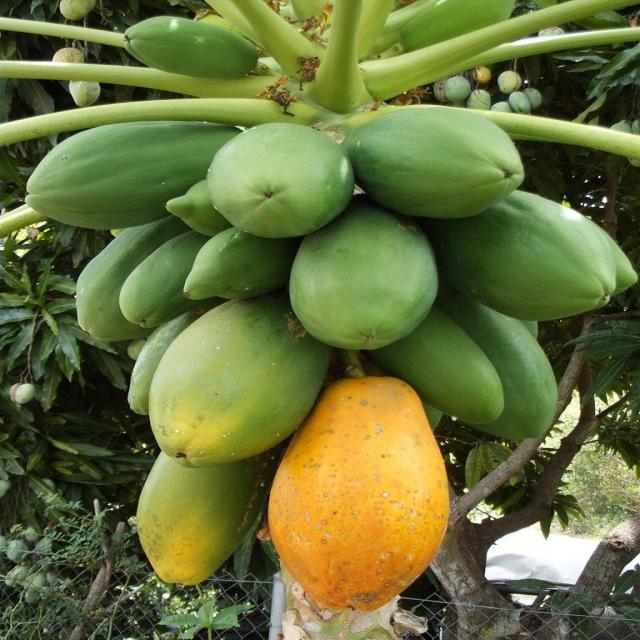Pepaya rippen: (267, 373, 453, 611), (147, 325, 304, 466), (137, 464, 246, 582)
Pepaya unrippen: (21, 122, 223, 228), (352, 107, 536, 207), (293, 230, 440, 350), (463, 208, 615, 318), (218, 127, 337, 232), (473, 324, 562, 453)
